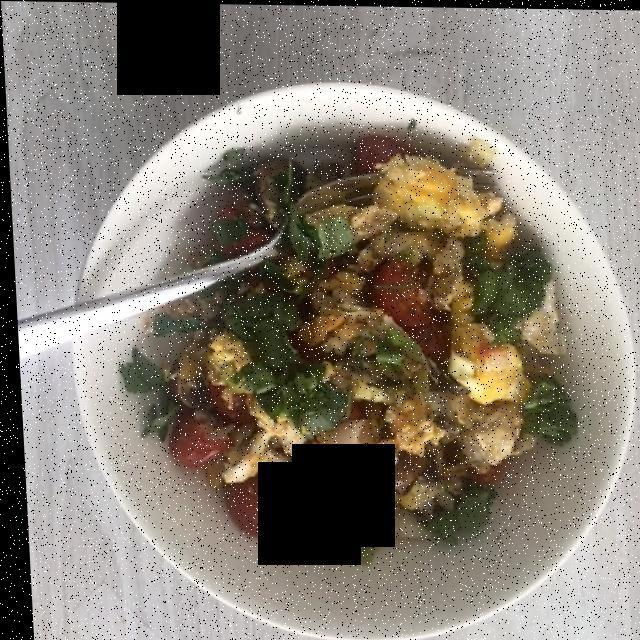eggs: (200, 142, 506, 524)
tomato: (175, 268, 449, 521)
